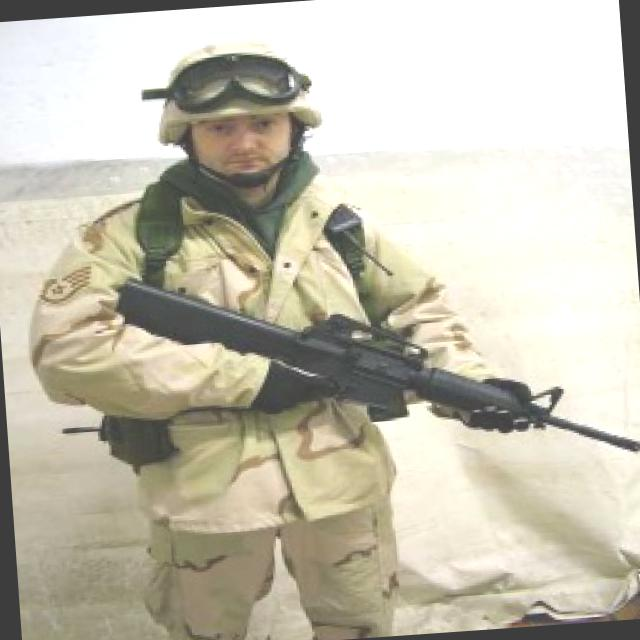long weapon: (63, 236, 639, 508)
